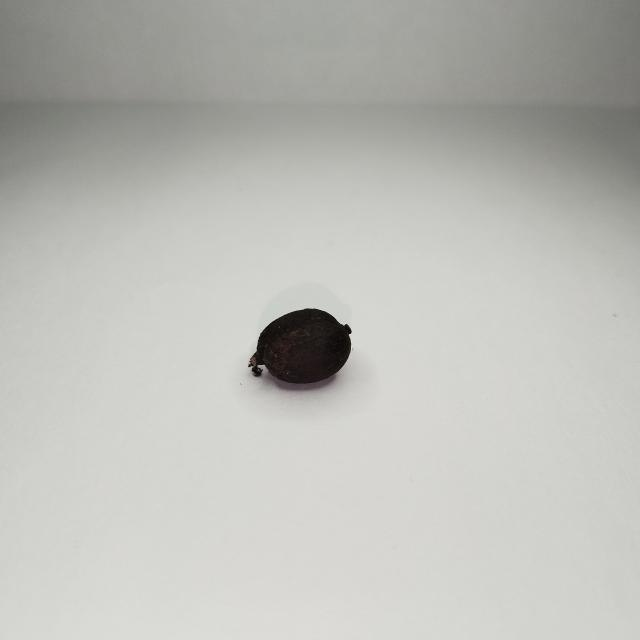Danado: (249, 311, 352, 383)
